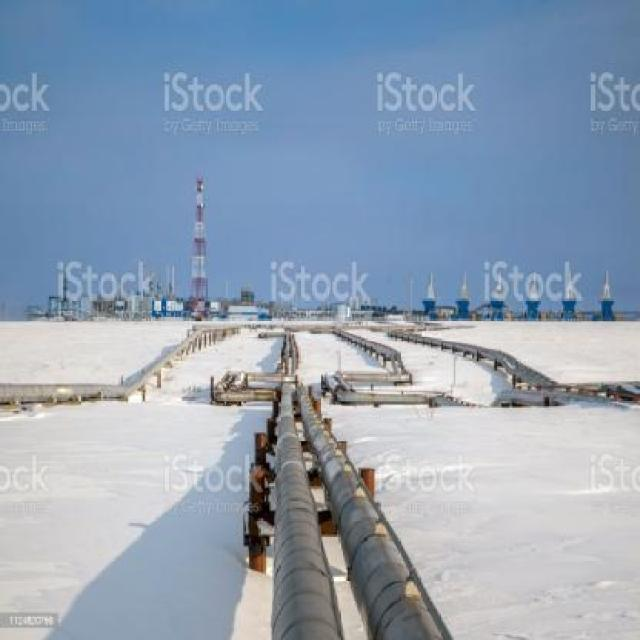gas: (335, 513, 451, 633), (268, 502, 343, 636), (314, 442, 398, 520), (405, 328, 517, 374), (276, 398, 312, 502), (490, 378, 605, 409), (337, 384, 438, 419), (328, 322, 400, 367), (2, 382, 124, 404), (126, 348, 179, 392), (298, 392, 336, 452), (180, 325, 232, 350), (210, 385, 275, 403)
